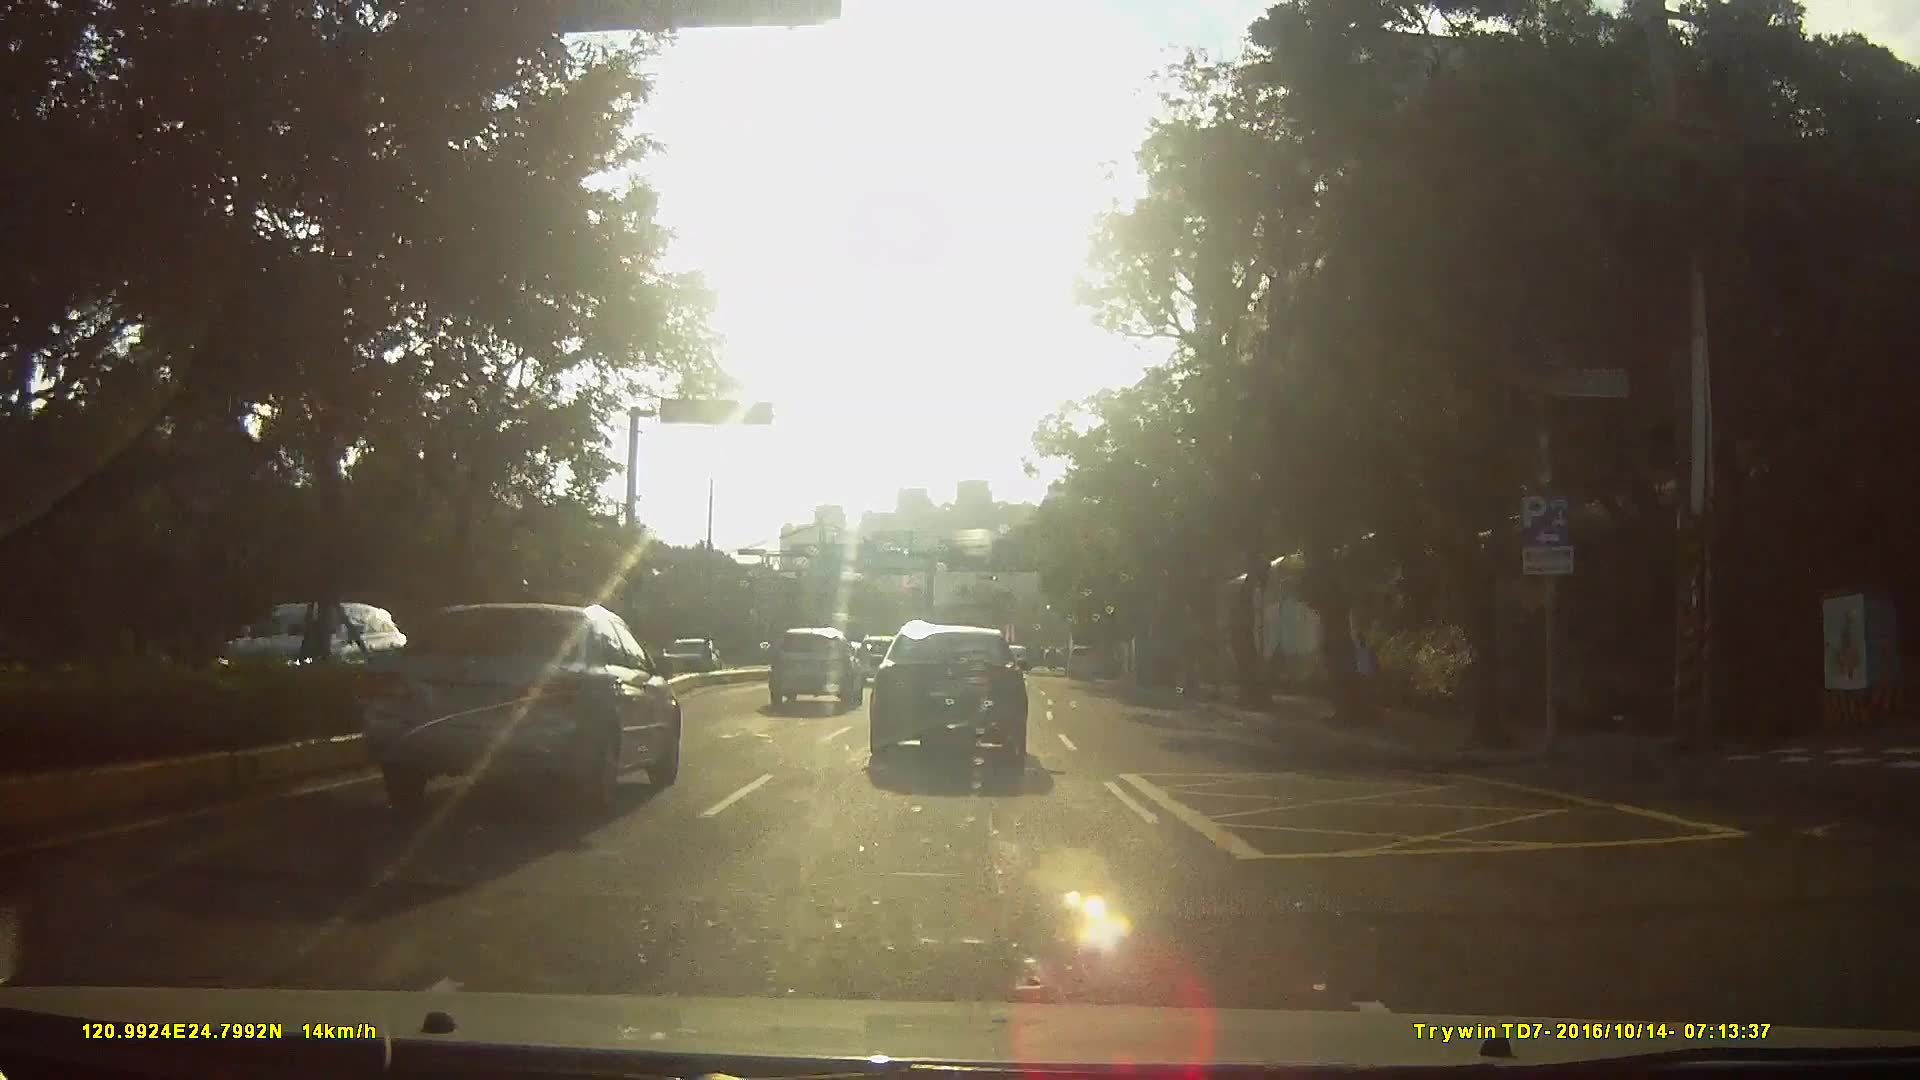vehicle: (356, 597, 679, 808), (866, 622, 1044, 767), (208, 597, 407, 707), (764, 622, 862, 708), (644, 632, 704, 676), (1060, 645, 1098, 680)
